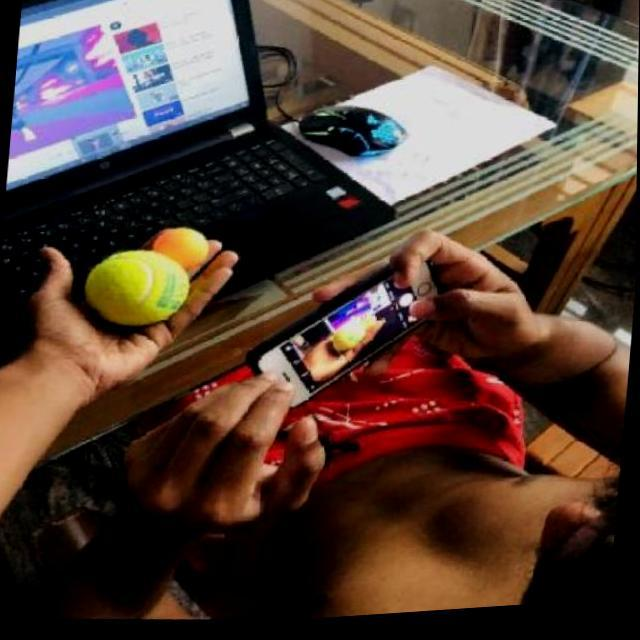-: (27, 222, 266, 362)
